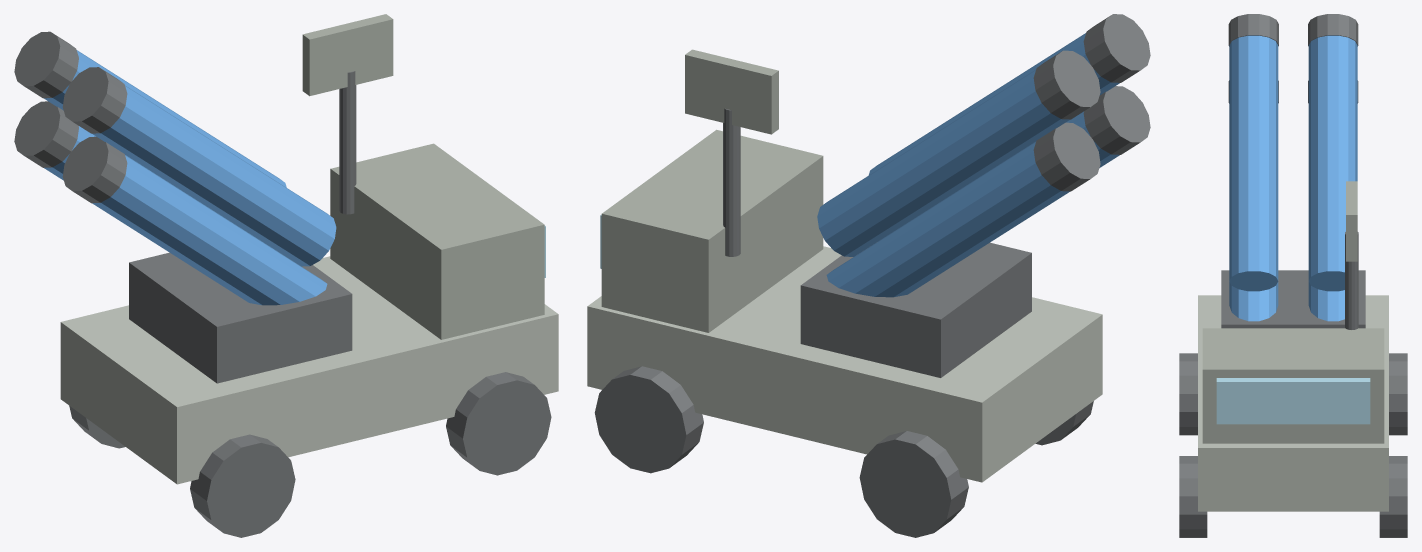
The model's file is sam_blue.glb.
The picture shows the model from 3 angles, left to right: view 1: azimuth 30°, elevation 25°; view 2: azimuth 150°, elevation 25°; view 3: azimuth 270°, elevation 25°; orthographic projection. The views are drawn at different scales.
Visible parts, largest first — view 1: part00, part01, part07, part12, part08, part05, part03, part17, part13, part15, part09, part11 (+3 smaller); view 2: part00, part01, part07, part14, part10, part04, part06, part17, part15, part13, part11, part09 (+3 smaller); view 3: part00, part01, part12, part14, part02, part07, part03, part04, part05, part06, part08, part13 (+4 smaller).
Boxes of the visible parts, bbox=[...] form: part00: bbox=[60, 256, 558, 484]; part01: bbox=[330, 143, 544, 339]; part07: bbox=[129, 252, 352, 383]; part12: bbox=[92, 85, 336, 266]; part08: bbox=[92, 155, 327, 305]; part05: bbox=[190, 434, 295, 537]; part03: bbox=[446, 372, 551, 475]; part17: bbox=[302, 14, 393, 96]; part13: bbox=[62, 67, 127, 133]; part15: bbox=[14, 31, 78, 98]; part09: bbox=[62, 136, 127, 203]; part11: bbox=[14, 101, 78, 167]; part00: bbox=[587, 246, 1102, 482]; part01: bbox=[601, 129, 823, 332]; part07: bbox=[800, 242, 1031, 377]; part14: bbox=[817, 69, 1069, 256]; part10: bbox=[826, 141, 1069, 297]; part04: bbox=[594, 366, 703, 473]; part06: bbox=[859, 431, 968, 537]; part17: bbox=[685, 49, 778, 134]; part15: bbox=[1033, 50, 1100, 119]; part13: bbox=[1083, 14, 1150, 82]; part11: bbox=[1033, 122, 1100, 191]; part09: bbox=[1083, 86, 1150, 154]; part00: bbox=[1198, 295, 1388, 511]; part01: bbox=[1202, 328, 1384, 443]; part12: bbox=[1229, 35, 1278, 291]; part14: bbox=[1308, 35, 1357, 291]; part02: bbox=[1216, 378, 1370, 424]; part07: bbox=[1221, 270, 1365, 328]; part03: bbox=[1179, 456, 1207, 537]; part04: bbox=[1379, 456, 1407, 537]; part05: bbox=[1179, 353, 1197, 435]; part06: bbox=[1389, 353, 1407, 435]; part08: bbox=[1229, 282, 1278, 321]; part13: bbox=[1228, 14, 1278, 46].
Bounding box in the file's own units: 1.85 × 1.78 × 0.98.
